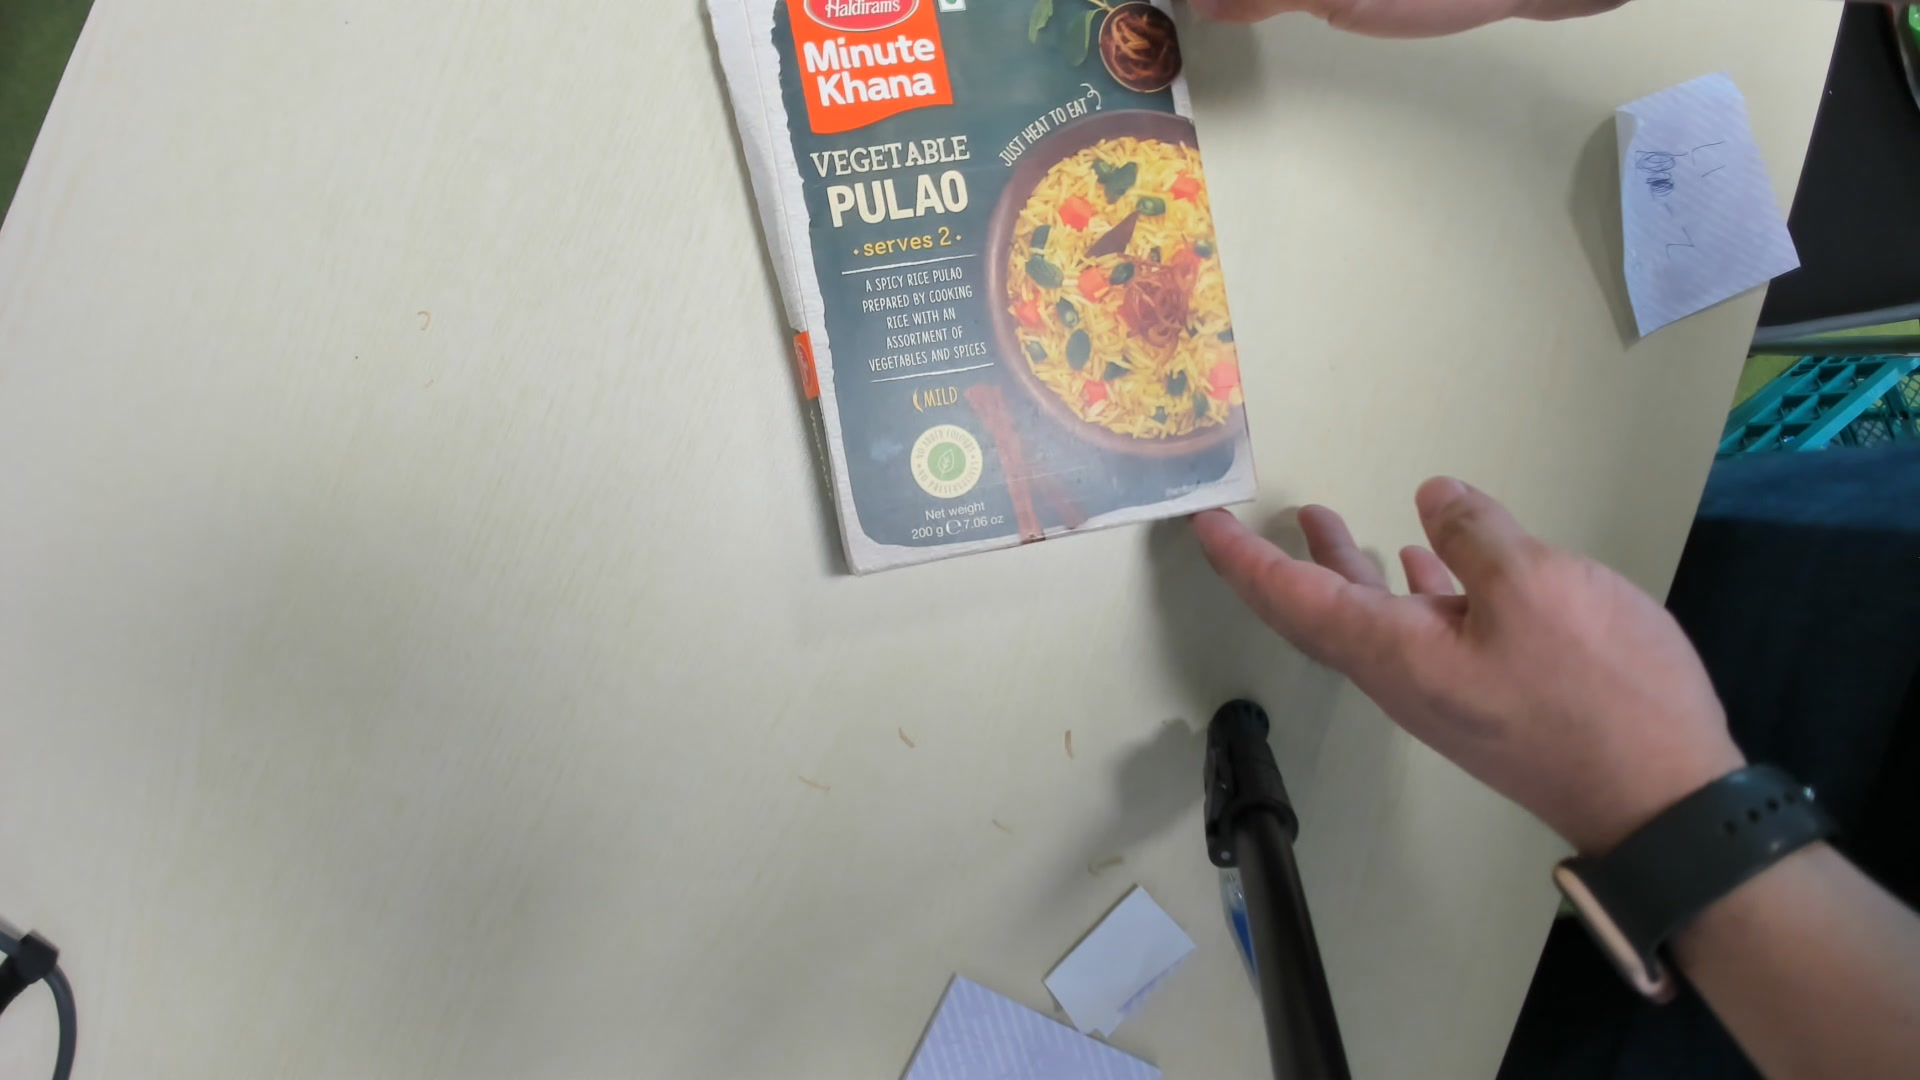InstantMeals_200_299g_NonHalal_NonHealthy: (699, 1, 1259, 568)
